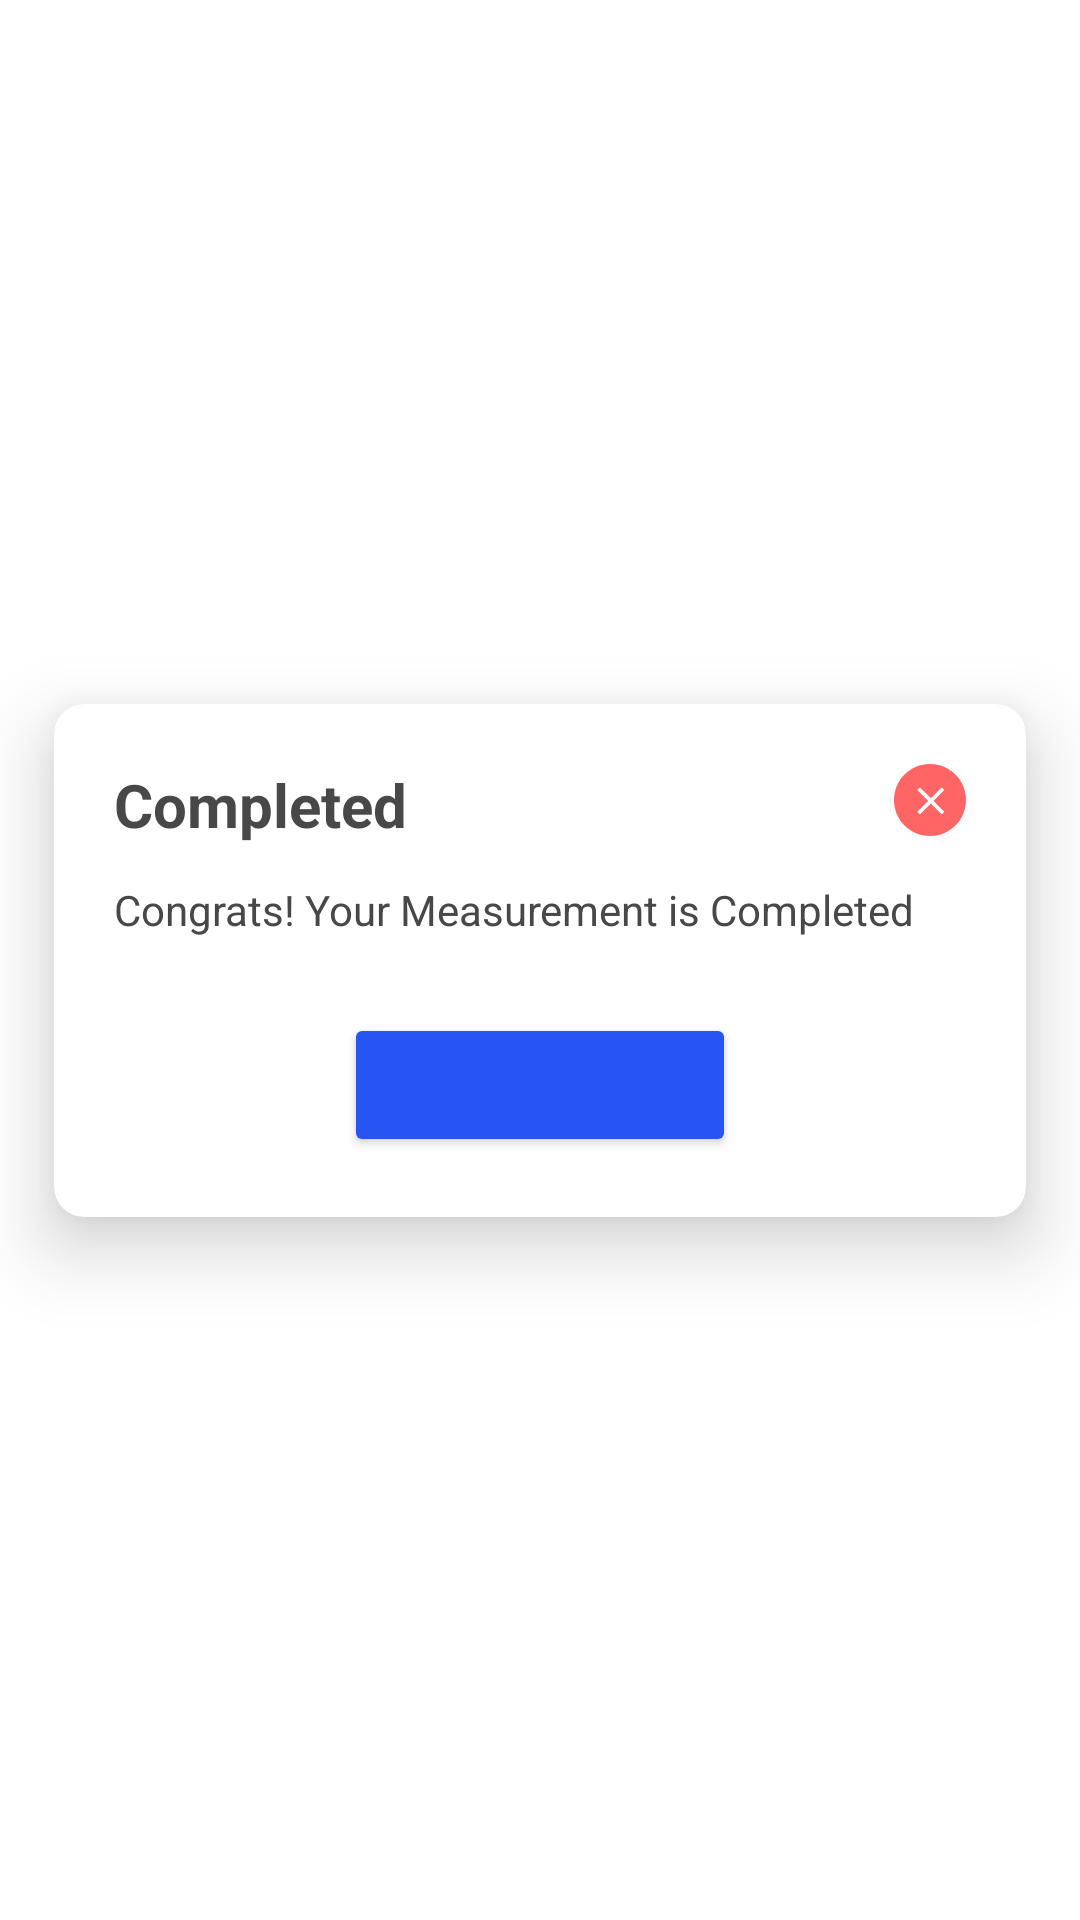

Point at icon controls on the screen. Image size 1080 x 1920, points as point (x, y).
close: point (930, 800)
